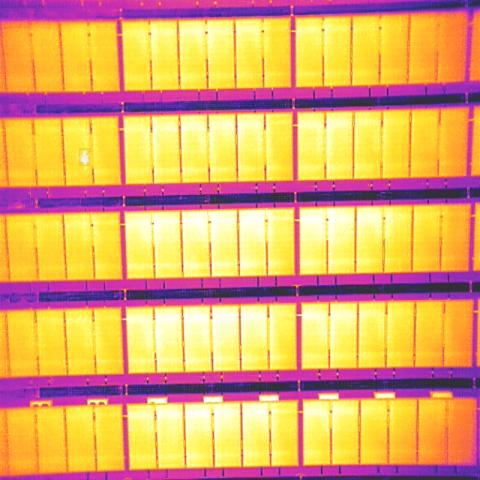fault: (79, 148, 90, 166)
